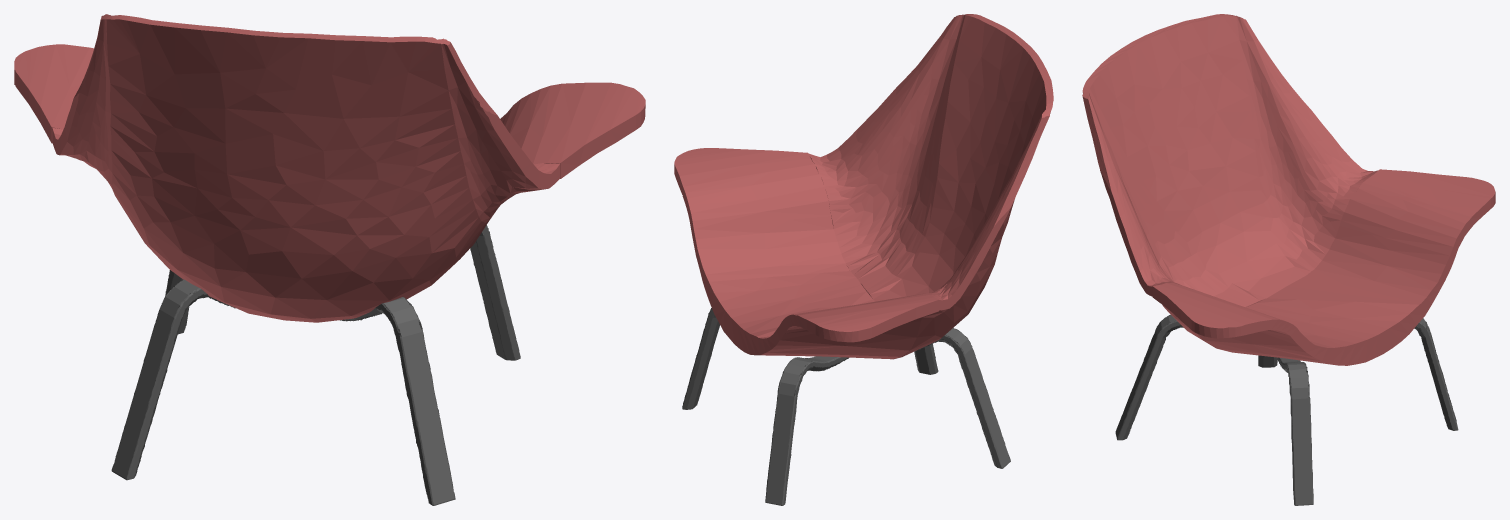
3 renders of one model, left to right at view 1: azimuth 30°, elevation 25°; view 2: azimuth 150°, elevation 25°; view 3: azimuth 270°, elevation 25°, orthographic. The views are drawn at different scales.
Bounding box in the file's own units: 0.9855 × 0.8833 × 0.9643.
